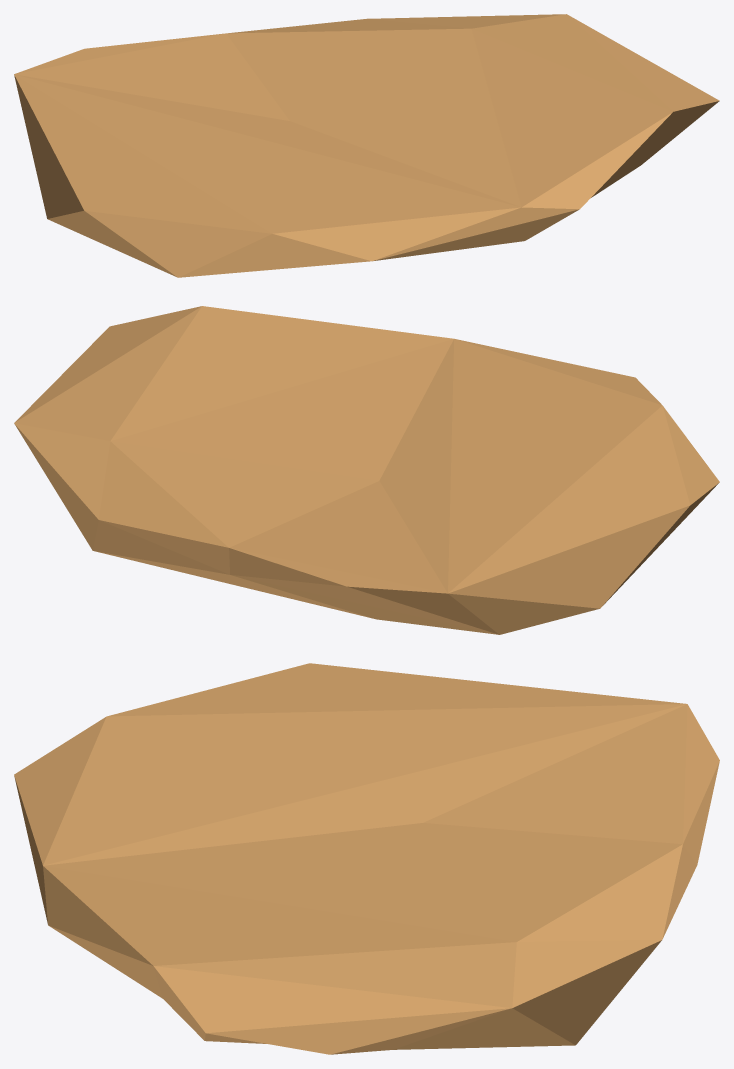
The model's file is Path_tile_6.glb.
The picture shows the model from 3 angles, top to bottom: view 1: azimuth 30°, elevation 25°; view 2: azimuth 150°, elevation 25°; view 3: azimuth 270°, elevation 25°; orthographic projection. The views are drawn at different scales.
Parts seen in each view (by area): view 1: Path_tile_06; view 2: Path_tile_06; view 3: Path_tile_06.
Boxes of the visible parts, x1=… form: Path_tile_06: x1=14, y1=14, x2=719, y2=277; Path_tile_06: x1=14, y1=306, x2=719, y2=634; Path_tile_06: x1=14, y1=663, x2=719, y2=1054.
Size of the model in its own units: 0.2713 by 0.0443 by 0.2223.
